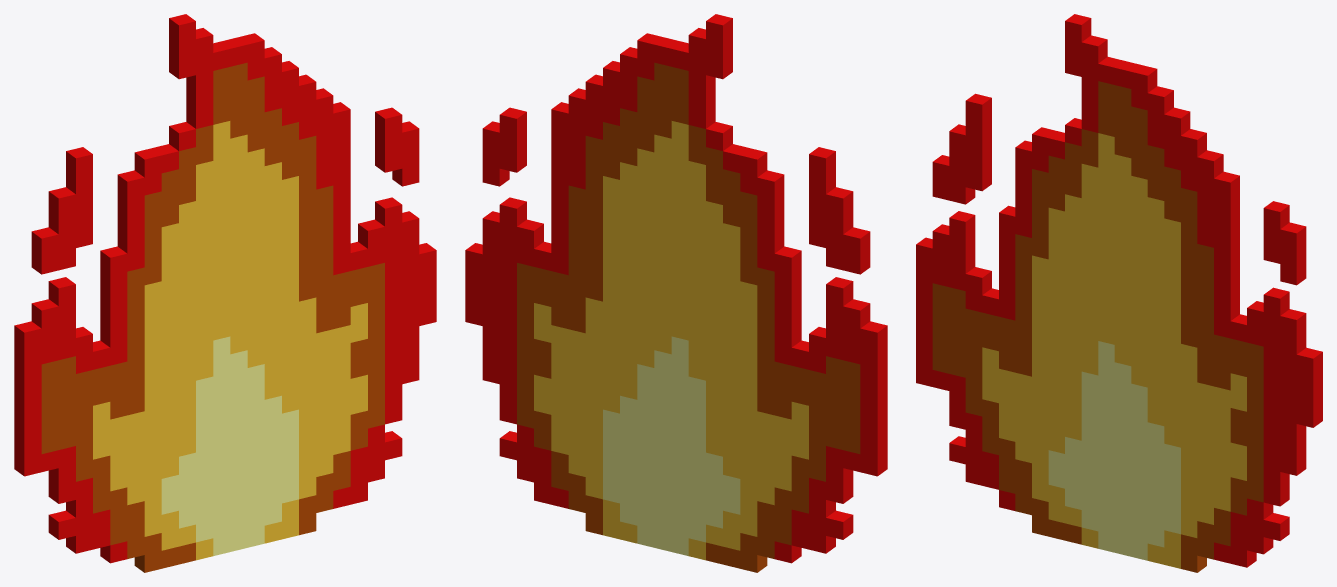
File: fire icon.obj
3 views of the same model, side by side, from view 1: azimuth 30°, elevation 25°; view 2: azimuth 150°, elevation 25°; view 3: azimuth 330°, elevation 25° (orthographic). The views are drawn at different scales.
Bounding box in the file's own units: 2.4 × 3 × 0.1.
